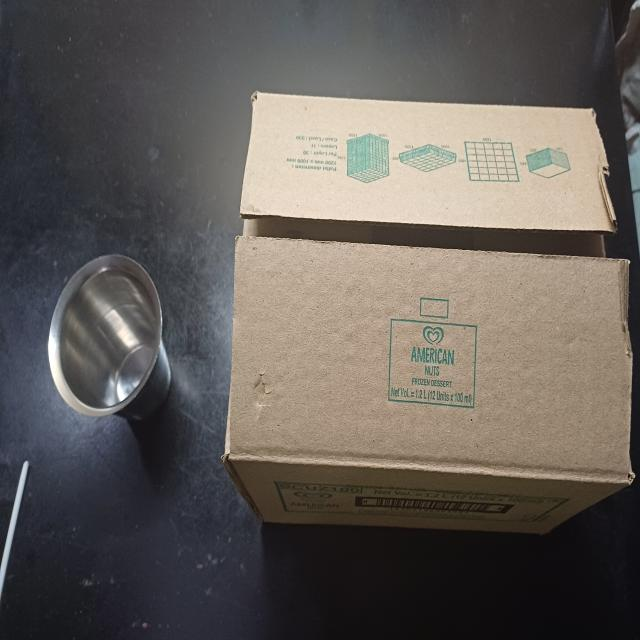CardBoard-Bio: (222, 84, 636, 542)
Steel-NonBio: (48, 249, 174, 435)
